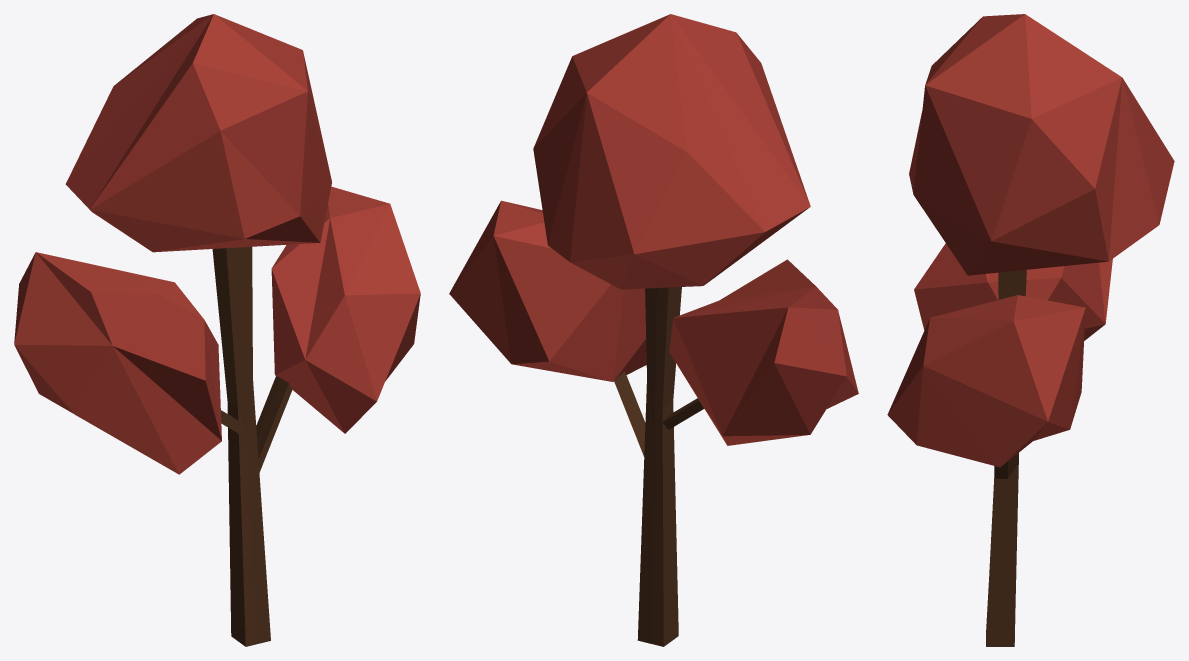
File: Tree_22_Red.fbx
3 views of the same model, side by side, from view 1: azimuth 30°, elevation 25°; view 2: azimuth 150°, elevation 25°; view 3: azimuth 270°, elevation 25° (orthographic). The views are drawn at different scales.
Visible parts, largest first — view 1: Tree_22_Red_Part_1, Tree_22_Red_Part_2; view 2: Tree_22_Red_Part_1, Tree_22_Red_Part_2; view 3: Tree_22_Red_Part_1, Tree_22_Red_Part_2.
Boxes of the visible parts, box(x1,y1,x2,y2) form: Tree_22_Red_Part_1: box(14, 14, 420, 474); Tree_22_Red_Part_2: box(212, 246, 292, 646); Tree_22_Red_Part_1: box(449, 14, 858, 445); Tree_22_Red_Part_2: box(614, 287, 704, 646); Tree_22_Red_Part_1: box(887, 14, 1174, 467); Tree_22_Red_Part_2: box(986, 270, 1026, 646).
Bounding box in the file's own units: 509 × 777 × 329.
